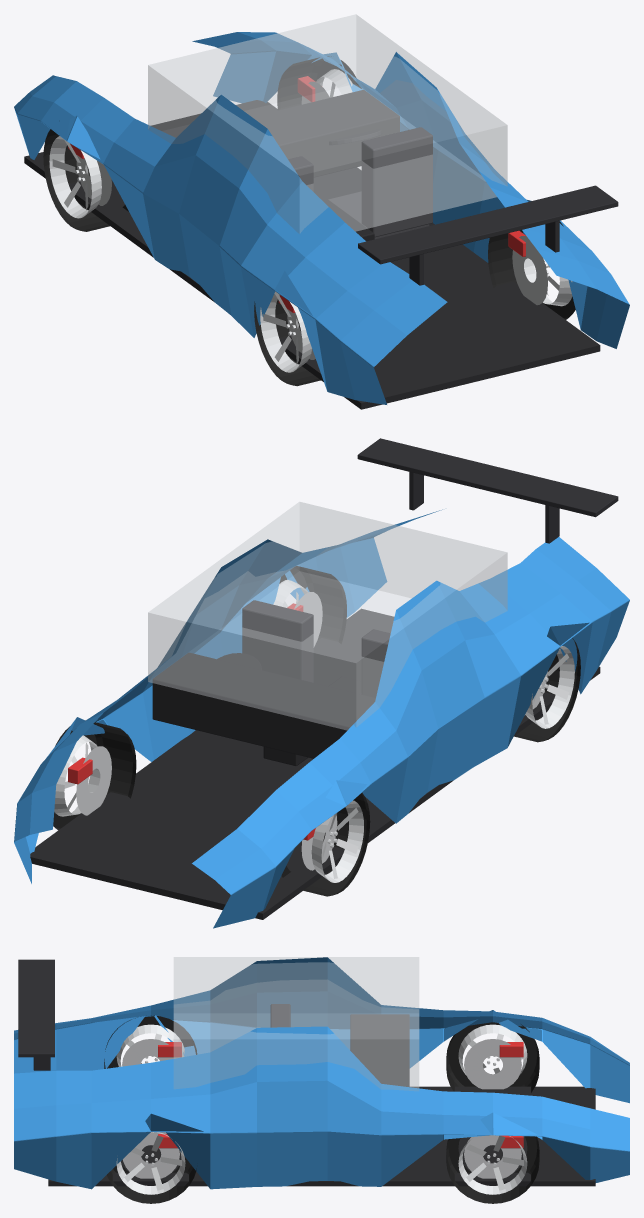
Rendered from vehicle.opt.glb.
The picture shows the model from 3 angles, top to bottom: view 1: azimuth 30°, elevation 25°; view 2: azimuth 150°, elevation 25°; view 3: azimuth 270°, elevation 25°; orthographic projection. The views are drawn at different scales.
Visible parts, largest first — view 1: BODY_Alpine_A110_R_MainShell, GLASS_Alpine_A110, CHASSIS_BellyPan, INTERIOR_SportsSeats, INTERIOR_Dashboard, AERO_Alpine_SwanNeckWing, WHEEL_FR_Rim, WHEEL_RR_Rim, WHEEL_FL_Tire, WHEEL_FR_Tire, WHEEL_RL_Tire, BRAKE_RL_Rotor (+3 smaller); view 2: BODY_Alpine_A110_R_MainShell, GLASS_Alpine_A110, CHASSIS_BellyPan, INTERIOR_Dashboard, AERO_Alpine_SwanNeckWing, INTERIOR_SportsSeats, WHEEL_FR_Rim, WHEEL_FL_Tire, WHEEL_RL_Tire, WHEEL_RR_Rim, WHEEL_FR_Tire, BRAKE_FL_Rotor (+4 smaller); view 3: BODY_Alpine_A110_R_MainShell, GLASS_Alpine_A110, CHASSIS_BellyPan, AERO_Alpine_SwanNeckWing, INTERIOR_Dashboard, BRAKE_FR_Rotor, WHEEL_FR_Tire, WHEEL_FL_Tire, WHEEL_FL_Rim, WHEEL_RL_Rim, BRAKE_FL_Rotor, BRAKE_RL_Rotor (+8 smaller).
Part boxes in pixels (x1,y1,x2,y2): BODY_Alpine_A110_R_MainShell: (14, 32, 629, 404); GLASS_Alpine_A110: (148, 14, 507, 233); CHASSIS_BellyPan: (24, 100, 600, 409); INTERIOR_SportsSeats: (288, 127, 432, 239); INTERIOR_Dashboard: (173, 90, 399, 241); AERO_Alpine_SwanNeckWing: (358, 185, 618, 285); WHEEL_FR_Rim: (49, 136, 101, 218); WHEEL_RR_Rim: (260, 291, 311, 372); WHEEL_FL_Tire: (277, 56, 361, 110); WHEEL_FR_Tire: (43, 129, 128, 231); WHEEL_RL_Tire: (488, 221, 575, 319); BRAKE_RL_Rotor: (512, 236, 547, 305); BODY_Alpine_A110_R_MainShell: (14, 509, 629, 928); GLASS_Alpine_A110: (148, 502, 507, 730); CHASSIS_BellyPan: (30, 608, 600, 919); INTERIOR_Dashboard: (152, 652, 375, 765); AERO_Alpine_SwanNeckWing: (357, 438, 618, 543); INTERIOR_SportsSeats: (242, 600, 390, 697); WHEEL_FR_Rim: (311, 800, 363, 882); WHEEL_FL_Tire: (53, 722, 136, 830); WHEEL_RL_Tire: (279, 566, 346, 643); WHEEL_RR_Rim: (525, 646, 574, 728); WHEEL_FR_Tire: (281, 792, 370, 896); BRAKE_FL_Rotor: (76, 746, 111, 815); BODY_Alpine_A110_R_MainShell: (14, 957, 629, 1189); GLASS_Alpine_A110: (173, 957, 419, 1090); CHASSIS_BellyPan: (48, 1086, 595, 1186); AERO_Alpine_SwanNeckWing: (18, 959, 54, 1070); INTERIOR_Dashboard: (350, 1014, 409, 1086); BRAKE_FR_Rotor: (464, 1039, 521, 1089); WHEEL_FR_Tire: (446, 1022, 539, 1092); WHEEL_FL_Tire: (446, 1136, 539, 1203); WHEEL_FL_Rim: (458, 1135, 527, 1194); WHEEL_RL_Rim: (116, 1132, 185, 1194); BRAKE_FL_Rotor: (464, 1135, 521, 1178); BRAKE_RL_Rotor: (123, 1132, 179, 1178).
Size of what is drawn, in the model's own units: 1.9 by 1.25 by 4.36.
